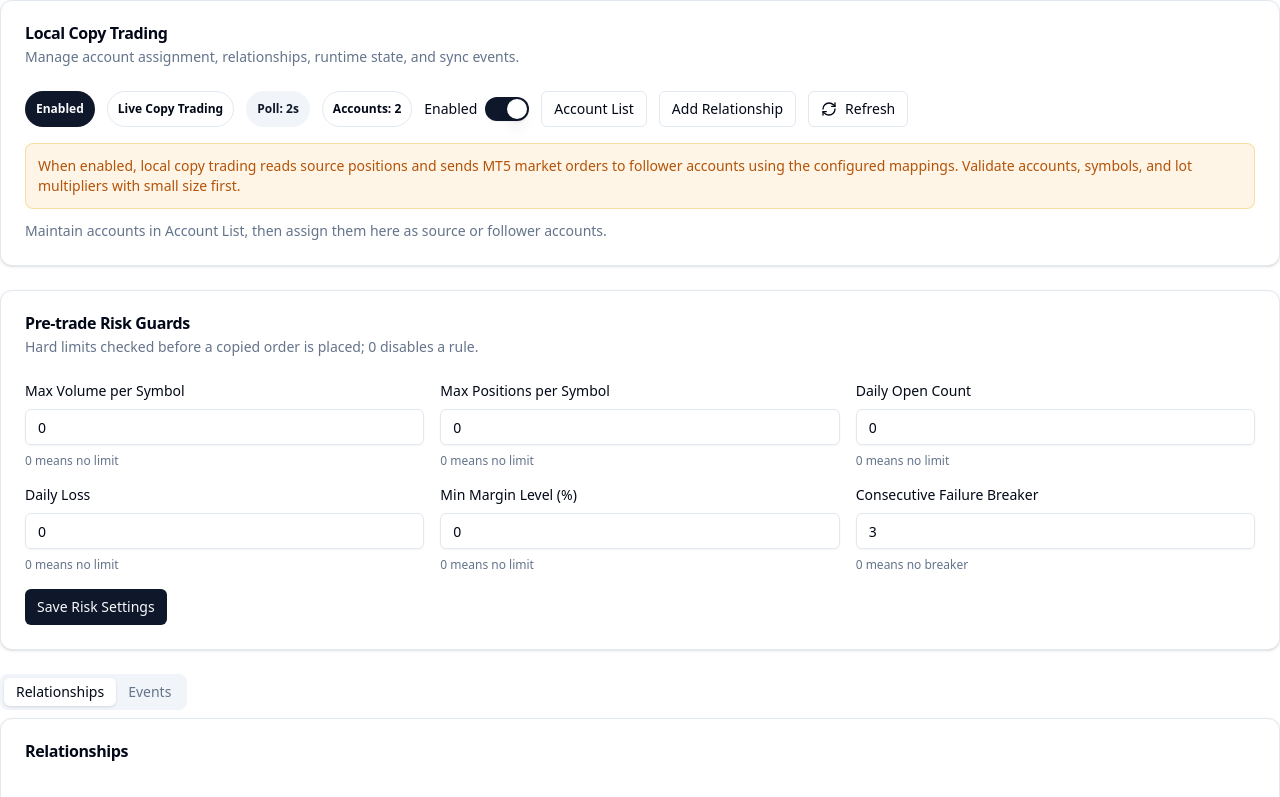
Local Copy Trading Page › warns about orphaned positions when deleting a relationship with open records
Click the tab "Relationships". click: [60, 692]
box: [4,678,116,706]
(page scrolled)
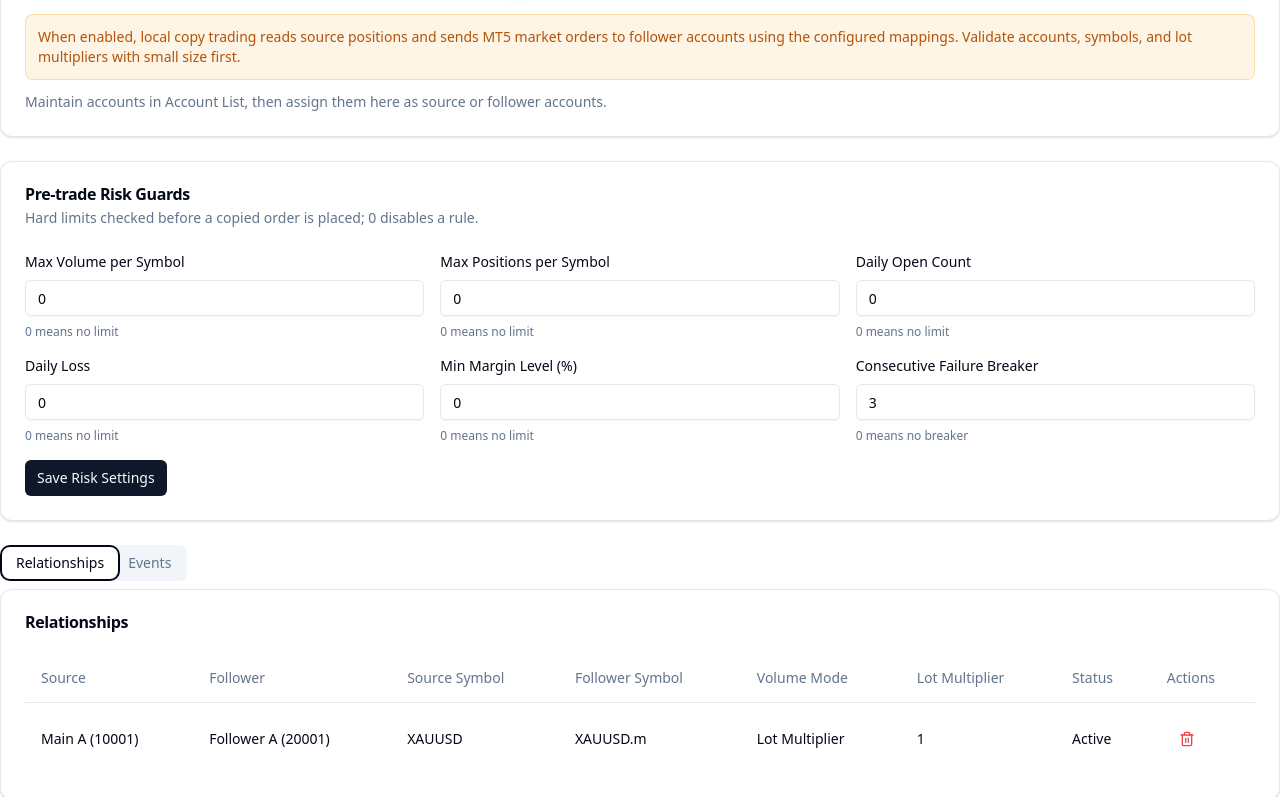
Check: the text "Main A (10001)" is shown, box [25,702,193,774]
Click the button named "Confirm Deletion". click: [1187, 738]
box: [1167,718,1207,758]
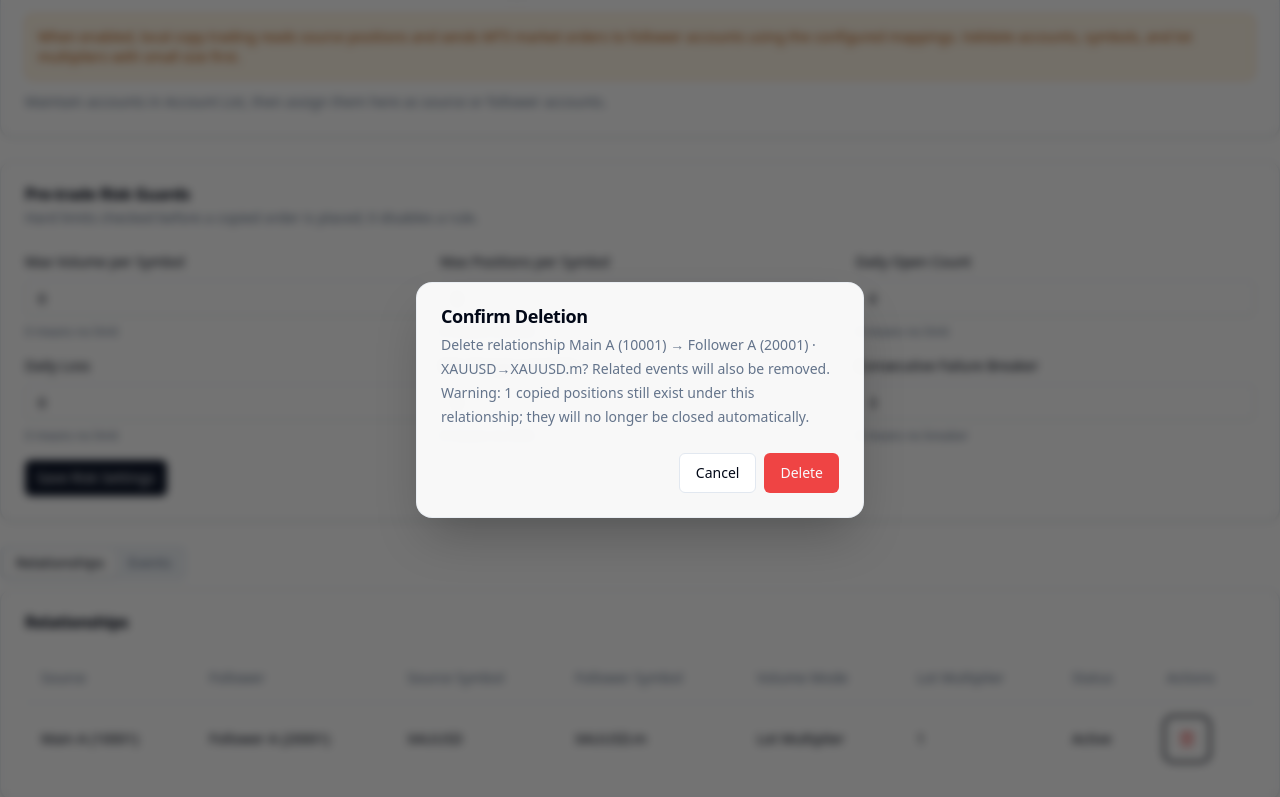
Check: the text "1 copied position" is shown, box [441,335,834,426]
